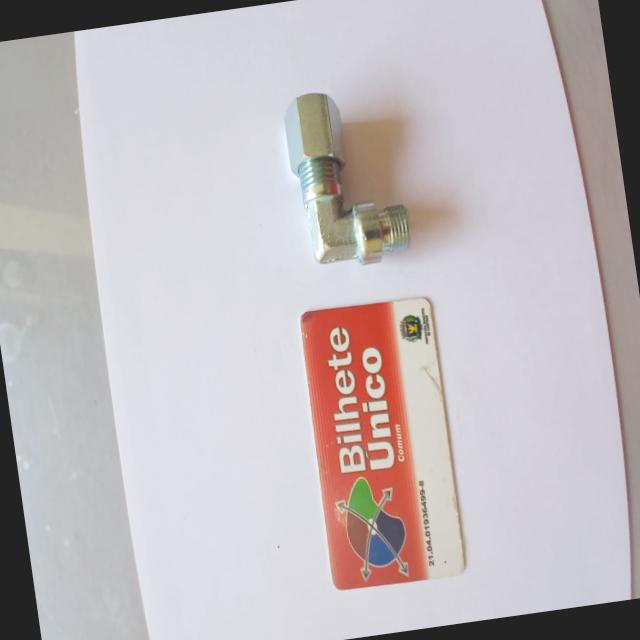cartao: (296, 296, 469, 593)
rosca_externa: (280, 81, 413, 272)
